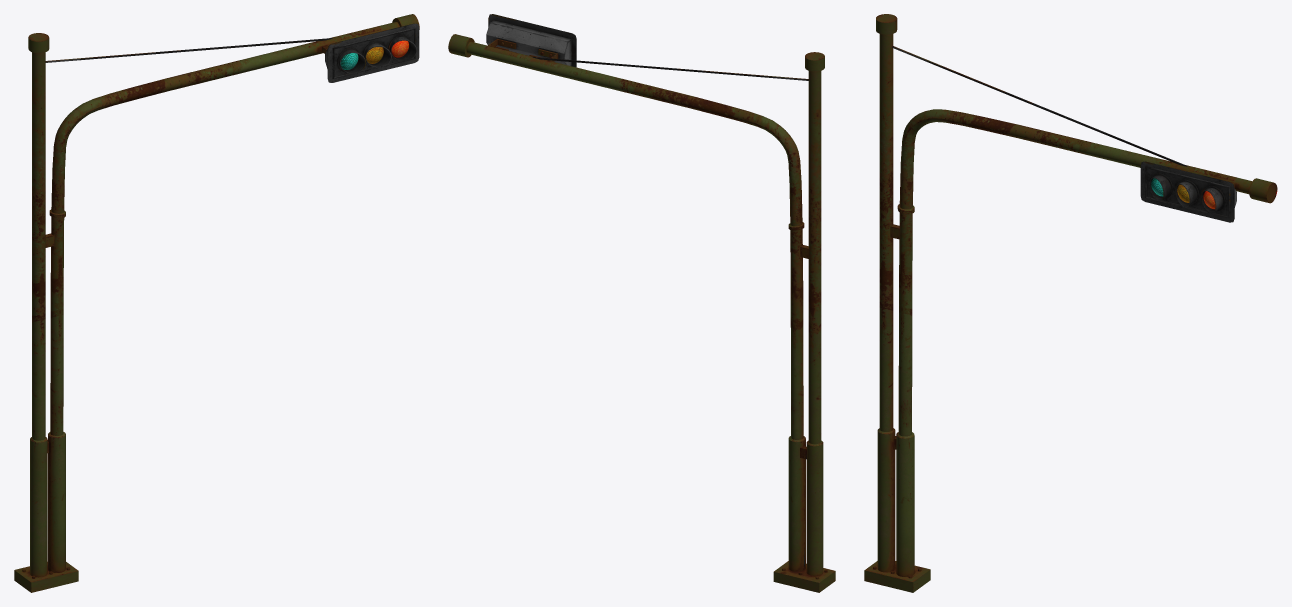
The model's file is TRAFFIC LIGHT 1.fbx.
3 renders of one model, left to right at view 1: azimuth 30°, elevation 25°; view 2: azimuth 150°, elevation 25°; view 3: azimuth 330°, elevation 25°, orthographic. The views are drawn at different scales.
Parts seen in each view (by area): view 1: TRAFFIC LIGHT 1; view 2: TRAFFIC LIGHT 1; view 3: TRAFFIC LIGHT 1.
Boxes of the visible parts, box(x1,y1,x2,y2) form: TRAFFIC LIGHT 1: box(14, 14, 419, 592); TRAFFIC LIGHT 1: box(448, 14, 835, 592); TRAFFIC LIGHT 1: box(864, 14, 1277, 592).
Size of the model in its own units: 512 by 686 by 87.52.
